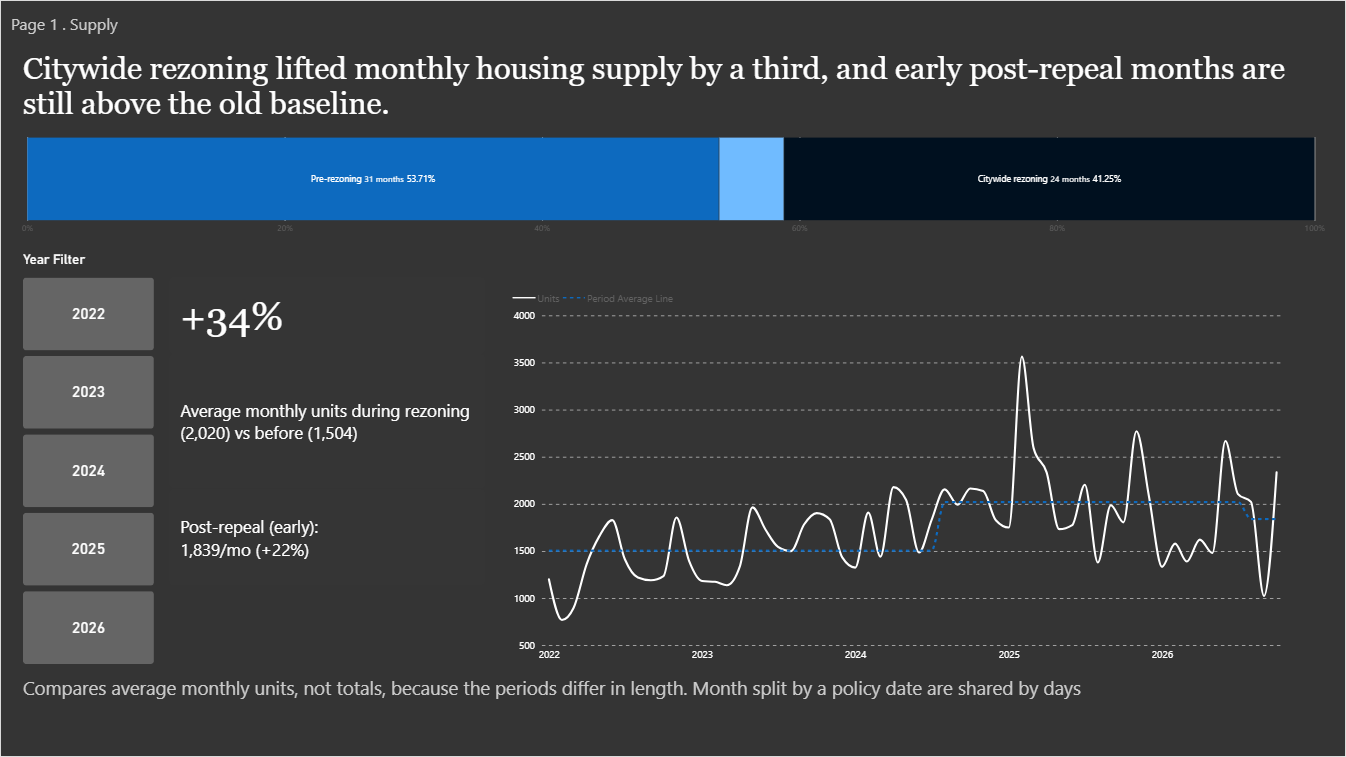

What the dashboard file says about the page in this screenshot:
{"tool":"powerbi","page":{"name":"Page 1","canvas":[1920,1080],"ordinal":0},"visuals":[{"type":"textbox","title":"Citywide rezoning lifted monthly housing supply by a third, and early post-repeal months are still above the old baseline.","box":[31.4,71.4,1834.3,92.9],"z":0},{"type":"textbox","title":"Page 1 . Supply","box":[14.3,17.1,214.3,41.4],"z":1000},{"type":"lineChart","fields":{"Category":["gold dim_date.Month"],"Y":["Measure.Units","Measure.Period Average Line"]},"box":[715.7,394.3,1138.6,570],"z":2000},{"type":"hundredPercentStackedBarChart","fields":{"Series":["gold dim_date.policy_period"],"Y":["Measure.Period Months"]},"box":[28.6,187.1,1862.9,150],"z":3000},{"type":"cardVisual","fields":{"Data":["Measure.% Change vs Pre-Rezoning"]},"box":[240,394.3,452.9,110],"z":4000},{"type":"cardVisual","fields":{"Data":["Measure.Hero Subtitle"]},"box":[240,504.3,452.9,192.9],"z":5000},{"type":"cardVisual","fields":{"Data":["Measure.Post Repeal Line"]},"box":[240,697.1,452.9,138.6],"z":6000},{"type":"textbox","title":"Compares average monthly units, not totals, because the periods differ in length. Month split by a policy date are shared by days","box":[31.3,963.1,1589.6,92.4],"z":7000},{"type":"advancedSlicerVisual","title":"Year Filter","fields":{"Values":["gold dim_date.full_date.Variation.Date Hierarchy.Year"]},"box":[31.4,357.1,187.1,592.9],"z":8000}]}

Visuals, with their boxes in screenshot pixels (x1, y1, x2, y2), scaled from the page's 1920x1080 canvas onto the 1346x757 screenshot:
"Citywide rezoning lifted monthly housing supply by a third, and early post-repeal months are still above the old baseline." textbox: detection(22, 50, 1308, 115)
"Page 1 . Supply" textbox: detection(10, 12, 160, 41)
lineChart - gold dim_date.Month x Measure.Units: detection(502, 276, 1300, 676)
hundredPercentStackedBarChart - gold dim_date.policy_period x Measure.Period Months: detection(20, 131, 1326, 236)
cardVisual - Measure.% Change vs Pre-Rezoning: detection(168, 276, 486, 353)
cardVisual - Measure.Hero Subtitle: detection(168, 353, 486, 489)
cardVisual - Measure.Post Repeal Line: detection(168, 489, 486, 586)
"Compares average monthly units, not totals, because the periods differ in length. Month split by a policy date are shared by days" textbox: detection(22, 675, 1136, 740)
"Year Filter" advancedSlicerVisual: detection(22, 250, 153, 666)
